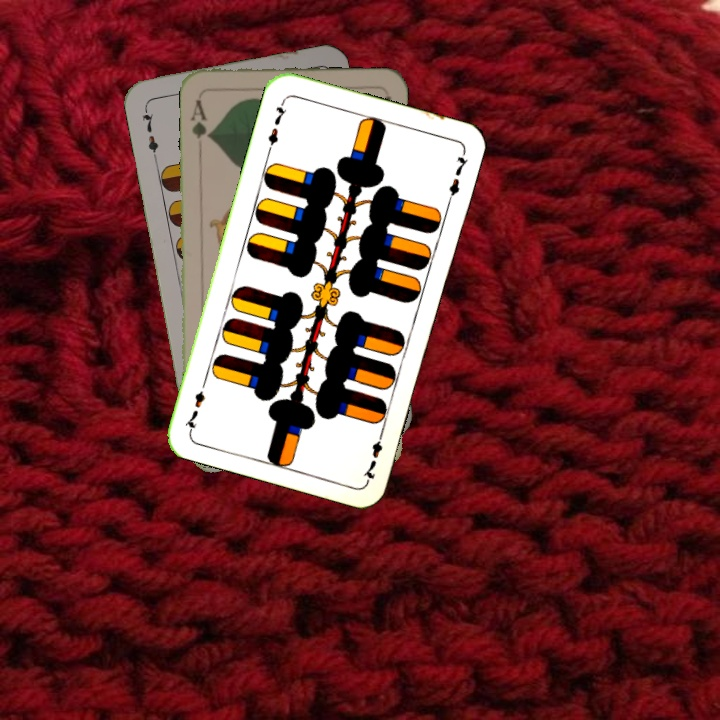E7: (263, 96, 290, 154), (360, 426, 386, 484), (138, 103, 161, 162)
GA: (186, 95, 213, 142)
